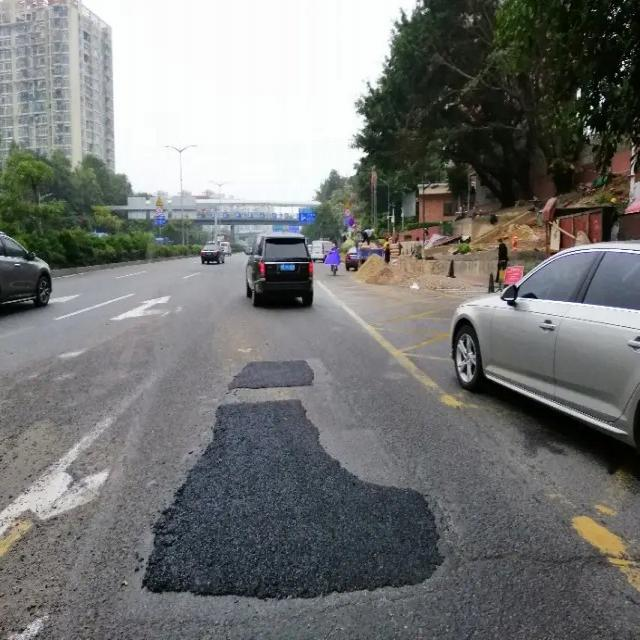Pothole: (142, 396, 444, 602), (228, 359, 315, 386)
